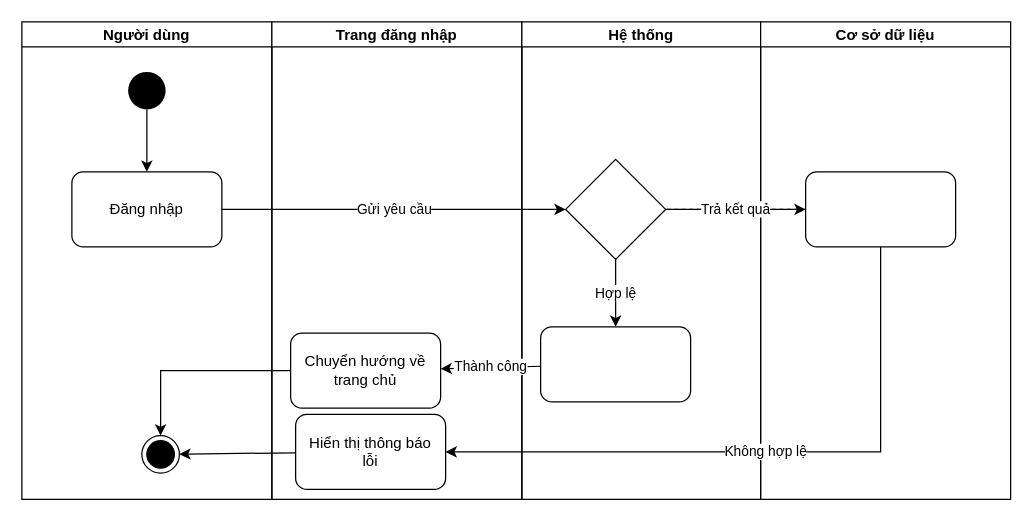
The diagram is 1033 pixels wide and 521 high, and some of its shapes have lost their labels. The shapes that lost their labels are listed below. From the top down, each one's centre as x and y in pixels, then its label:
At [615,208]: "Kiểm tra thông tin".
At [880,209]: "Kiểm tra tài khoản".
At [615,364]: "Tạo token xác thực".
